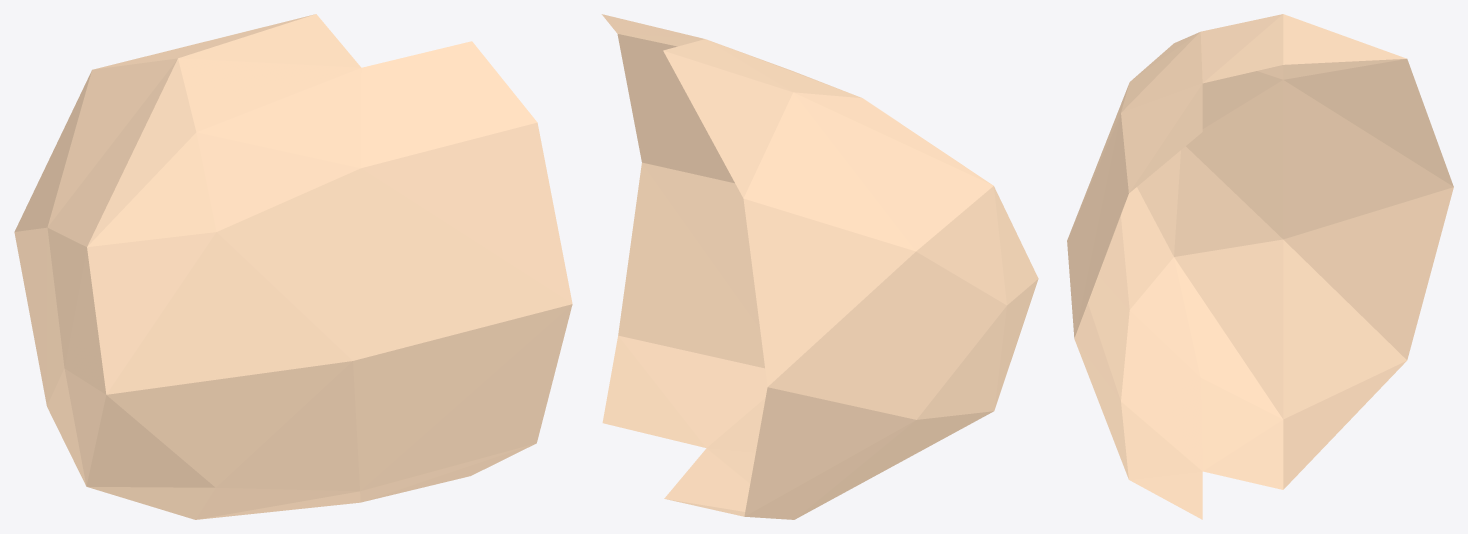
File: head7.glb
3 views of the same model, side by side, from view 1: azimuth 30°, elevation 25°; view 2: azimuth 150°, elevation 25°; view 3: azimuth 270°, elevation 25° (orthographic). The views are drawn at different scales.
Parts seen in each view (by area): view 1: tomodachi-2026-03-06-18-14-30-027.007; view 2: tomodachi-2026-03-06-18-14-30-027.007; view 3: tomodachi-2026-03-06-18-14-30-027.007.
Part boxes in pixels (left/top/right/bottom): tomodachi-2026-03-06-18-14-30-027.007: left=14, top=14, right=572, bottom=519; tomodachi-2026-03-06-18-14-30-027.007: left=601, top=14, right=1038, bottom=519; tomodachi-2026-03-06-18-14-30-027.007: left=1067, top=14, right=1453, bottom=519.
Bounding box in the file's own units: 1.02 × 1.04 × 0.8567.
1 material, 1 textured.
